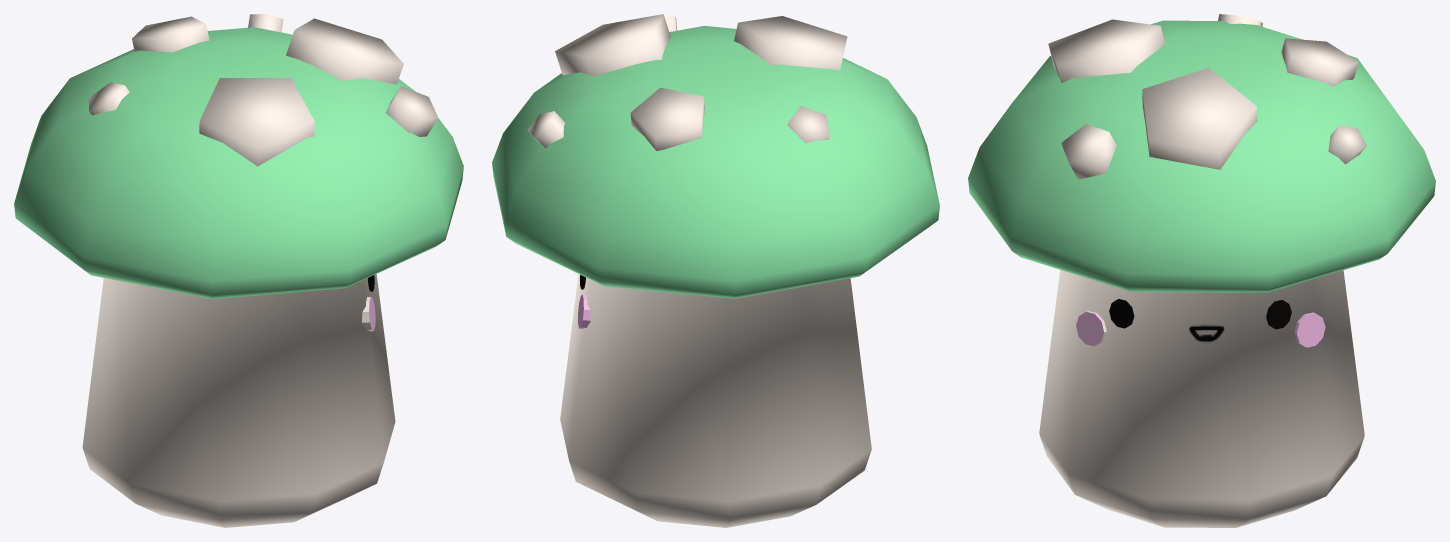
File: Hongo3.fbx
3 views of the same model, side by side, from view 1: azimuth 30°, elevation 25°; view 2: azimuth 150°, elevation 25°; view 3: azimuth 270°, elevation 25° (orthographic). The views are drawn at different scales.
Visible parts, largest first — view 1: Green Mushroom.002; view 2: Green Mushroom.002; view 3: Green Mushroom.002.
Boxes of the visible parts, x1,y1,x2,y2 form: Green Mushroom.002: [14, 14, 463, 527]; Green Mushroom.002: [492, 14, 939, 527]; Green Mushroom.002: [968, 14, 1435, 527].
Bounding box in the file's own units: 29.42 × 32.15 × 30.79.
